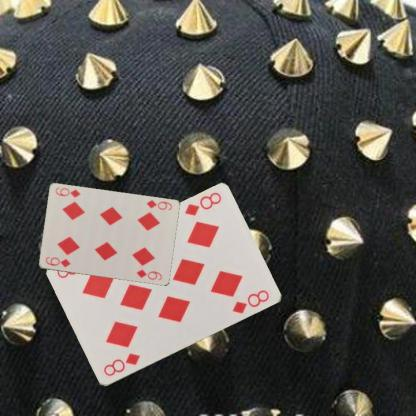6d: (43, 254, 72, 269), (143, 198, 173, 212)
8d: (182, 189, 222, 218), (101, 351, 142, 378)
